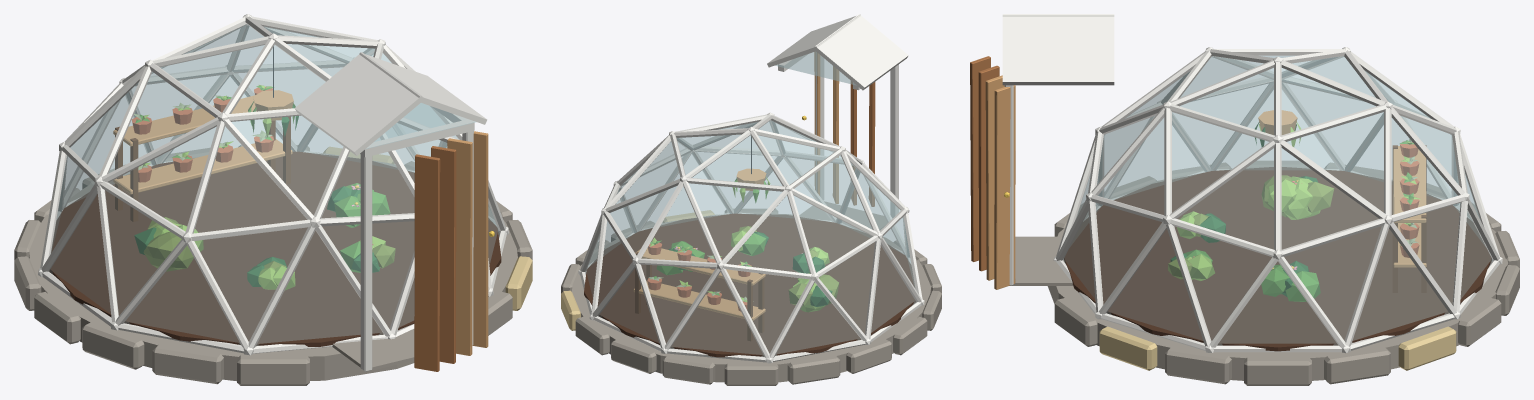
The model's file is greenhouse_dome.glb.
3 views of the same model, side by side, from view 1: azimuth 30°, elevation 25°; view 2: azimuth 150°, elevation 25°; view 3: azimuth 270°, elevation 25° (orthographic). The views are drawn at different scales.
Visible parts, largest first — view 1: Greenhouse Dome; view 2: Greenhouse Dome; view 3: Greenhouse Dome.
Part boxes in pixels (<box>): Greenhouse Dome: <box>14,14,532,385</box>; Greenhouse Dome: <box>561,14,941,385</box>; Greenhouse Dome: <box>970,14,1519,385</box>.
Bounding box in the file's own units: 4.38 × 2.73 × 5.01.
2 materials, 1 textured.
